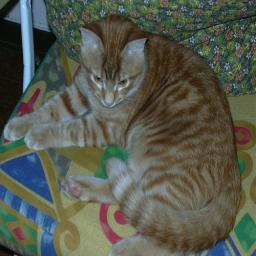catnose: (103, 93, 116, 106)
